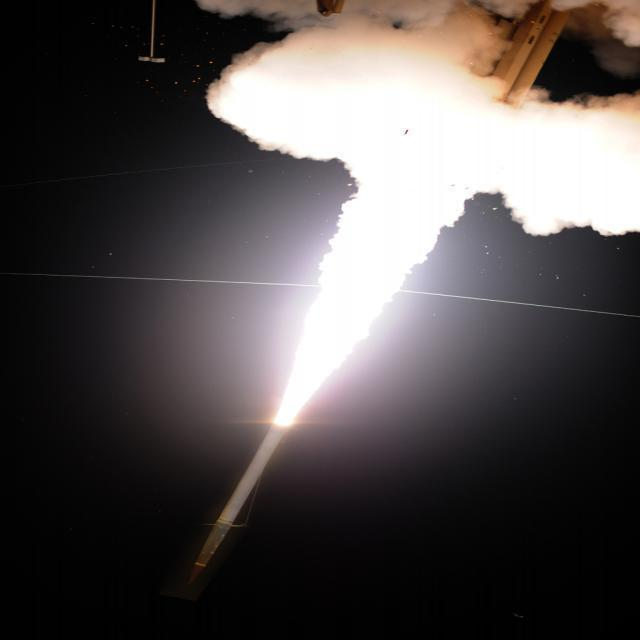missile: (182, 381, 312, 600)
